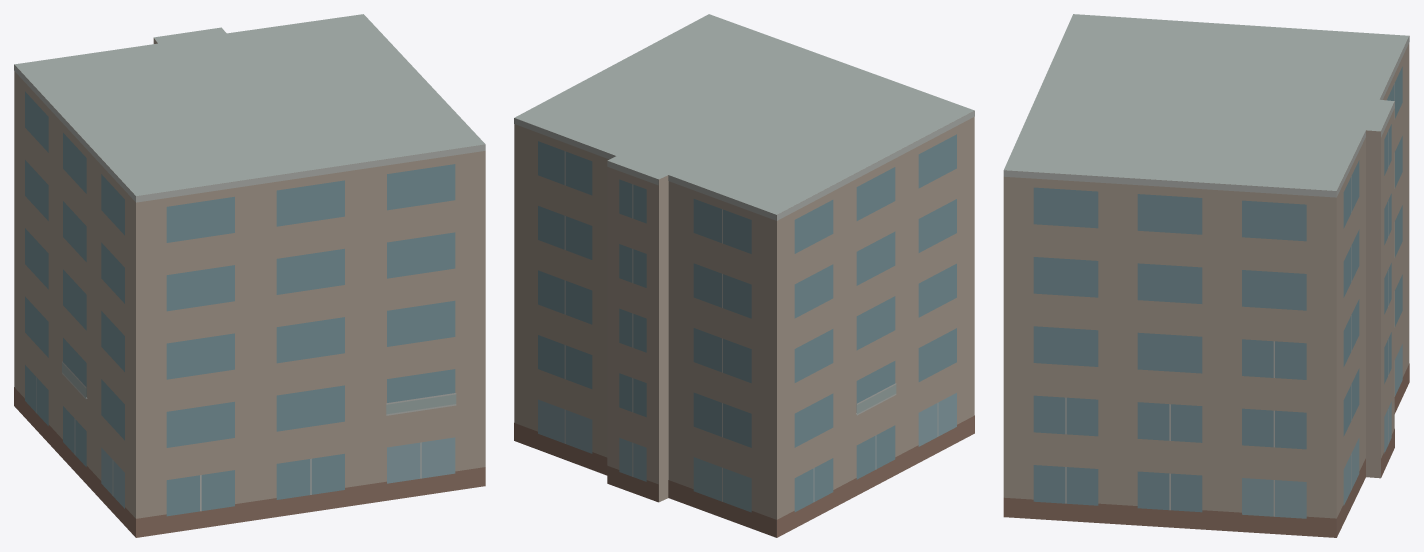
File: survey-upis-33047443.glb
The picture shows the model from 3 angles, left to right: view 1: azimuth 30°, elevation 25°; view 2: azimuth 150°, elevation 25°; view 3: azimuth 270°, elevation 25°; orthographic projection. The views are drawn at different scales.
Parts seen in each view (by area): view 1: survey-upis-33047443.tmp; view 2: survey-upis-33047443.tmp; view 3: survey-upis-33047443.tmp.
Boxes of the visible parts, box(x1,y1,x2,y2) form: survey-upis-33047443.tmp: box(14, 14, 485, 537); survey-upis-33047443.tmp: box(514, 14, 974, 537); survey-upis-33047443.tmp: box(1003, 14, 1409, 537).
Size of the model in its own units: 14.24 by 13 by 13.79.
